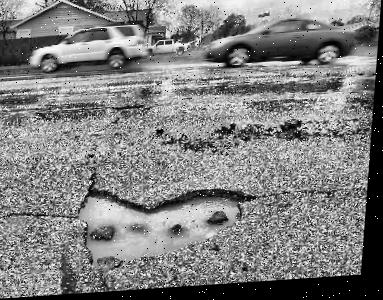pothole: (75, 181, 257, 270), (218, 79, 342, 103), (0, 86, 36, 96)
